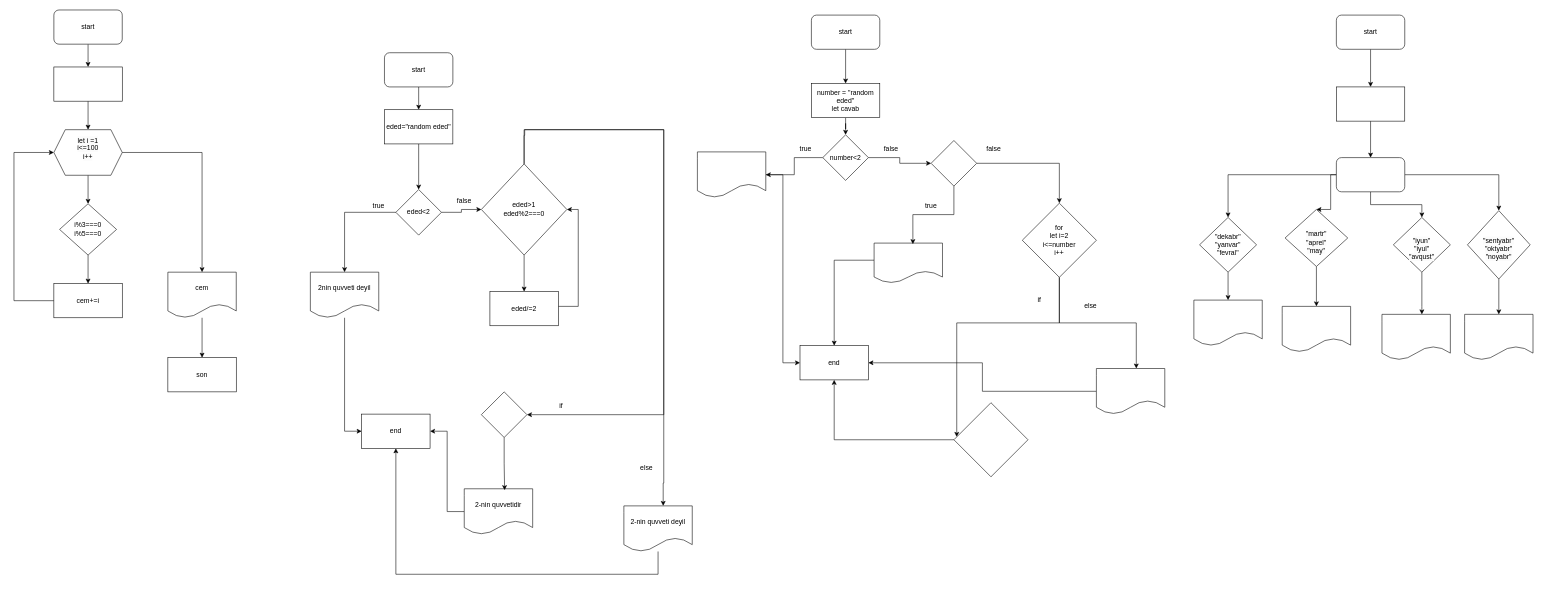
The diagram is 1543 pixels wide and 589 high, and some of its shapes have lost their labels. Here are the shapes that lost their labels. From the top down, the box of each, then its label:
(53, 66, 122, 101): cem = 0
(1336, 86, 1405, 121): ay=prompt("ay daxil edin")
(697, 151, 766, 198): Ne sade ne murekkeb
(931, 140, 977, 186): number =2
(1336, 157, 1405, 192): switch (ay)
(874, 243, 942, 283): sade ededdir
(1193, 300, 1262, 346): "qis ayidir"
(1282, 306, 1351, 352): "yaz ayidir"
(1381, 314, 1450, 360): "yay ayidir"
(1096, 368, 1165, 414): cavab sadedir
(481, 391, 527, 437): eded===1
(953, 402, 1028, 477): number%i===0
